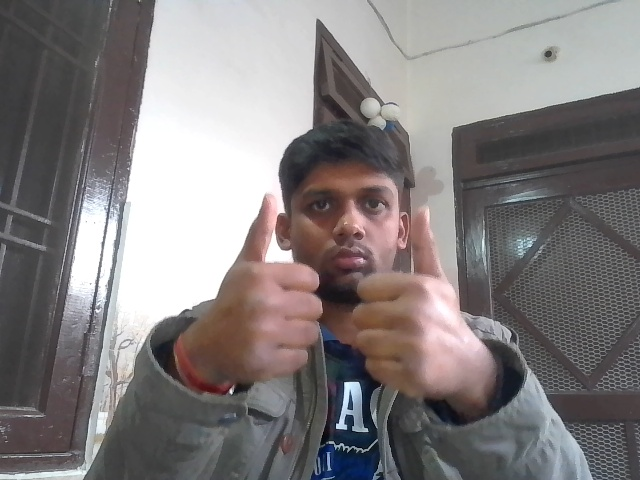Excellent: (200, 192, 459, 404)
